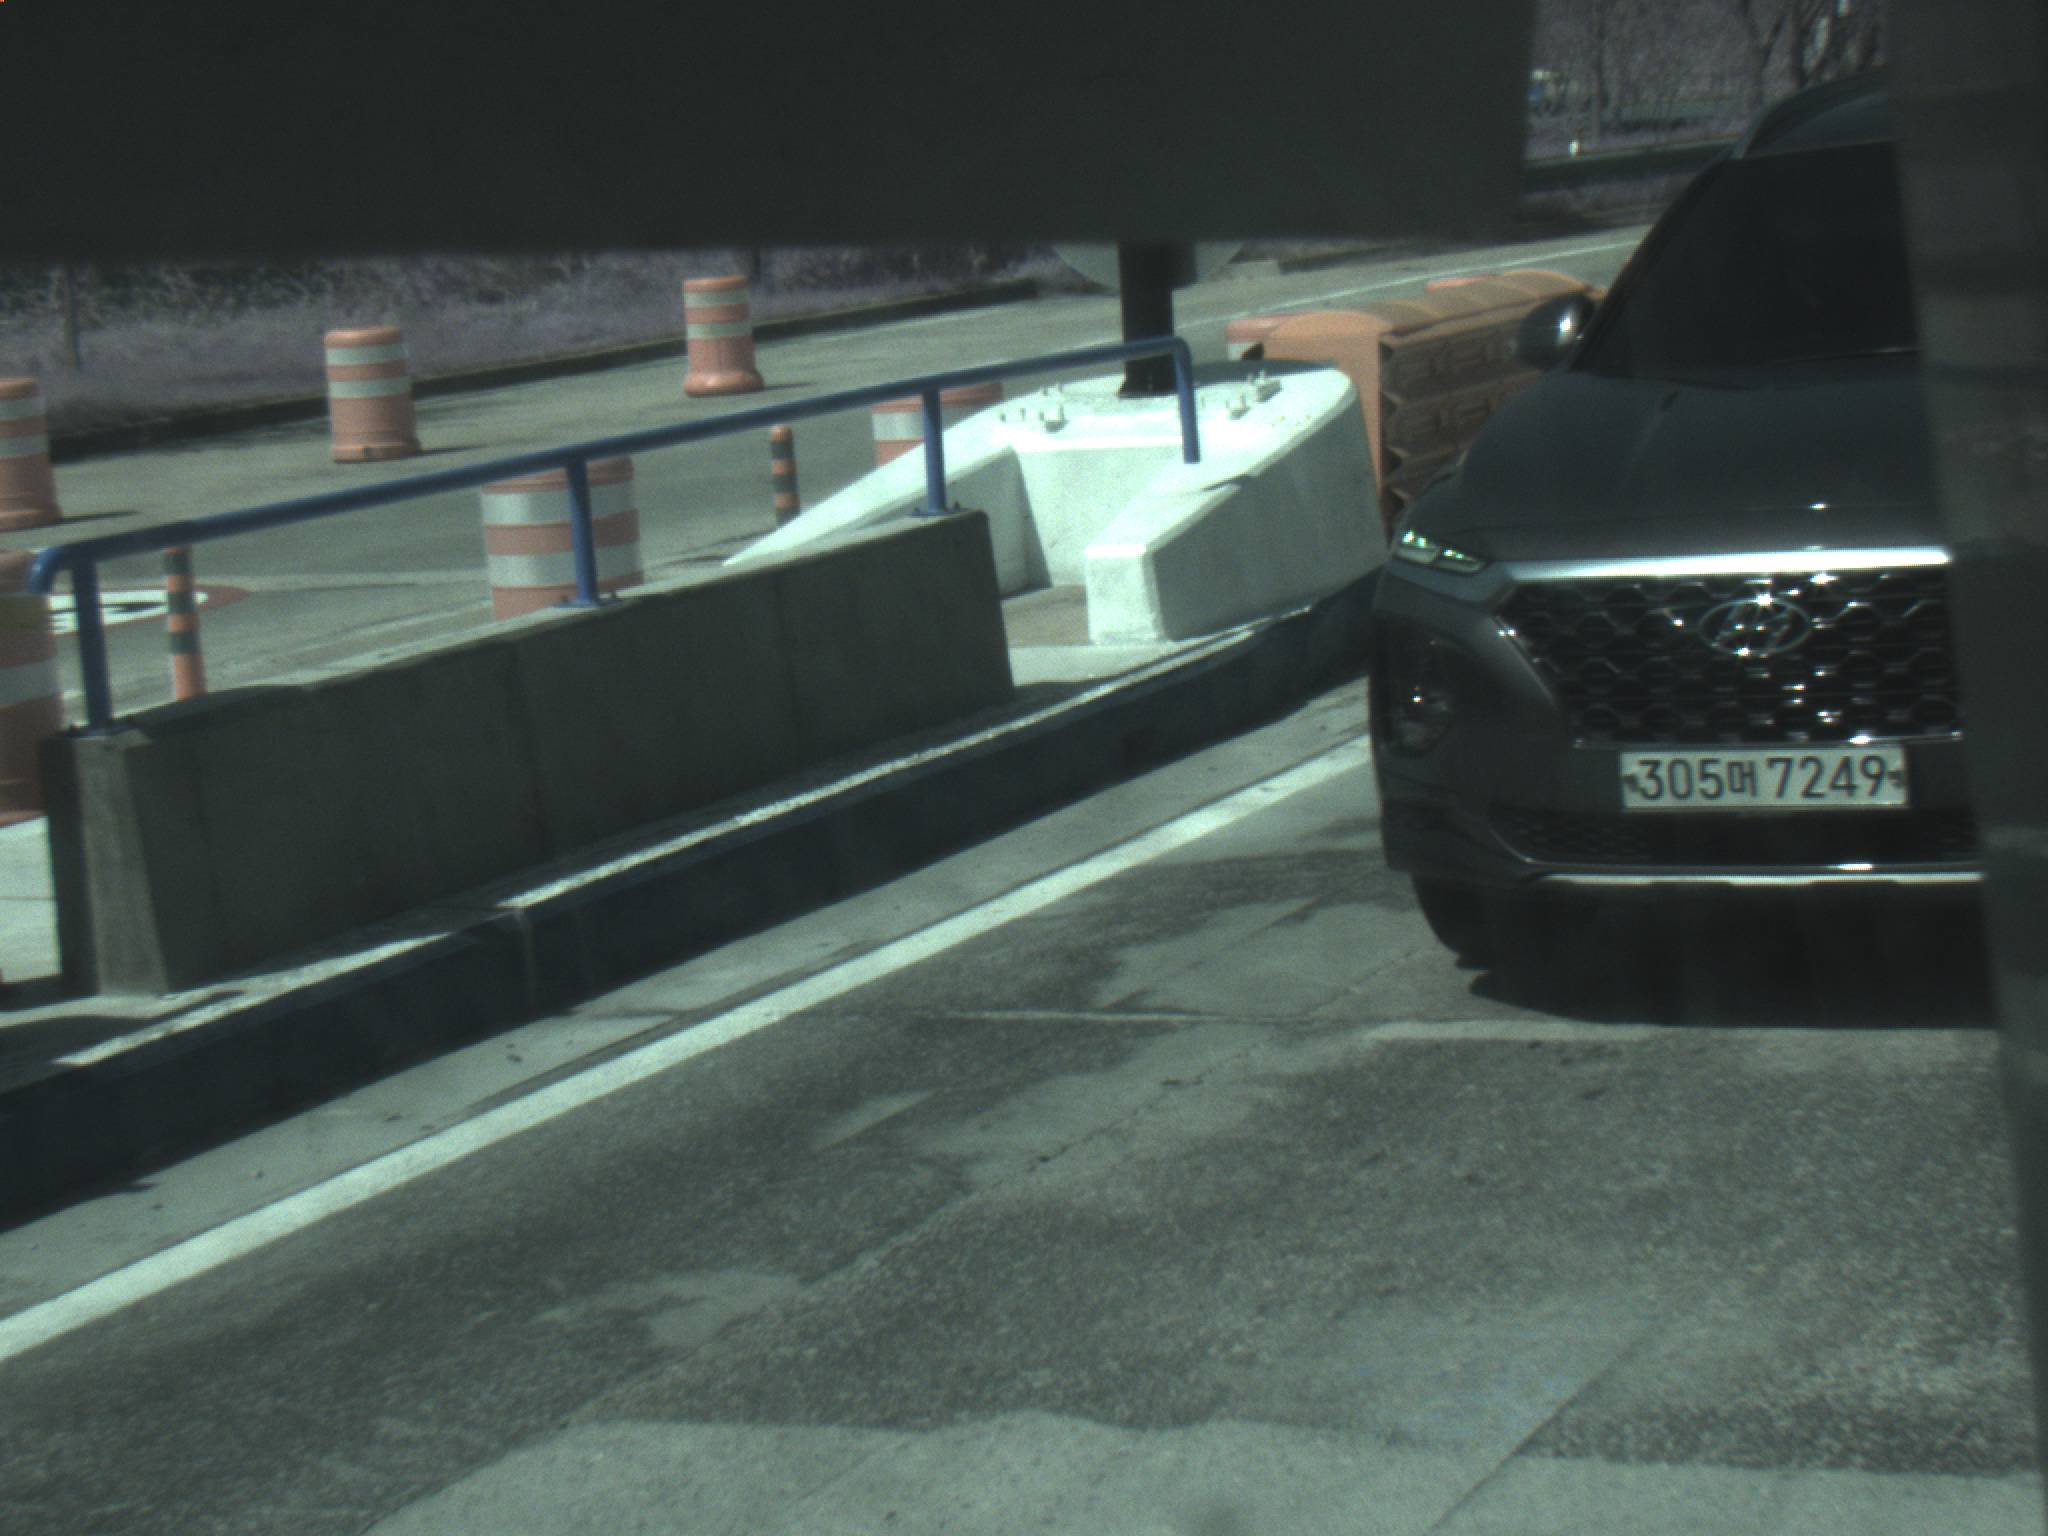car: (1363, 51, 1987, 972)
plate: (1610, 738, 1908, 811)
